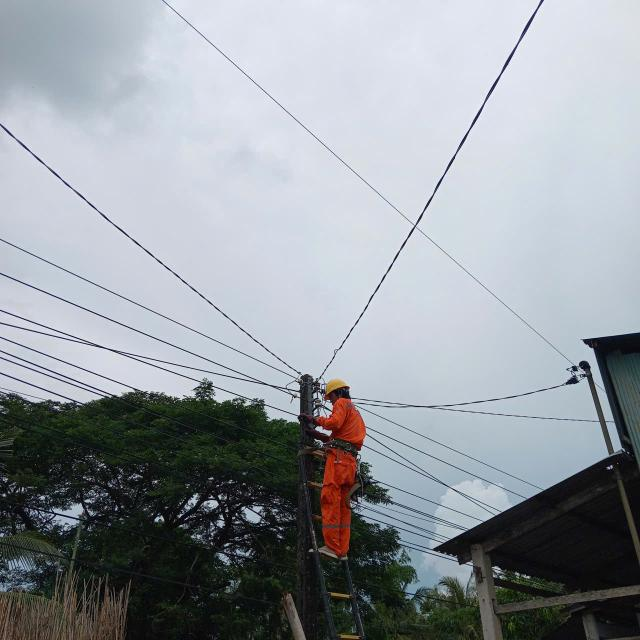gloves: (294, 424, 336, 444), (296, 411, 323, 429)
harness: (322, 437, 370, 458)
helmet: (321, 374, 353, 396)
shoes: (300, 547, 338, 561), (334, 548, 352, 563)
